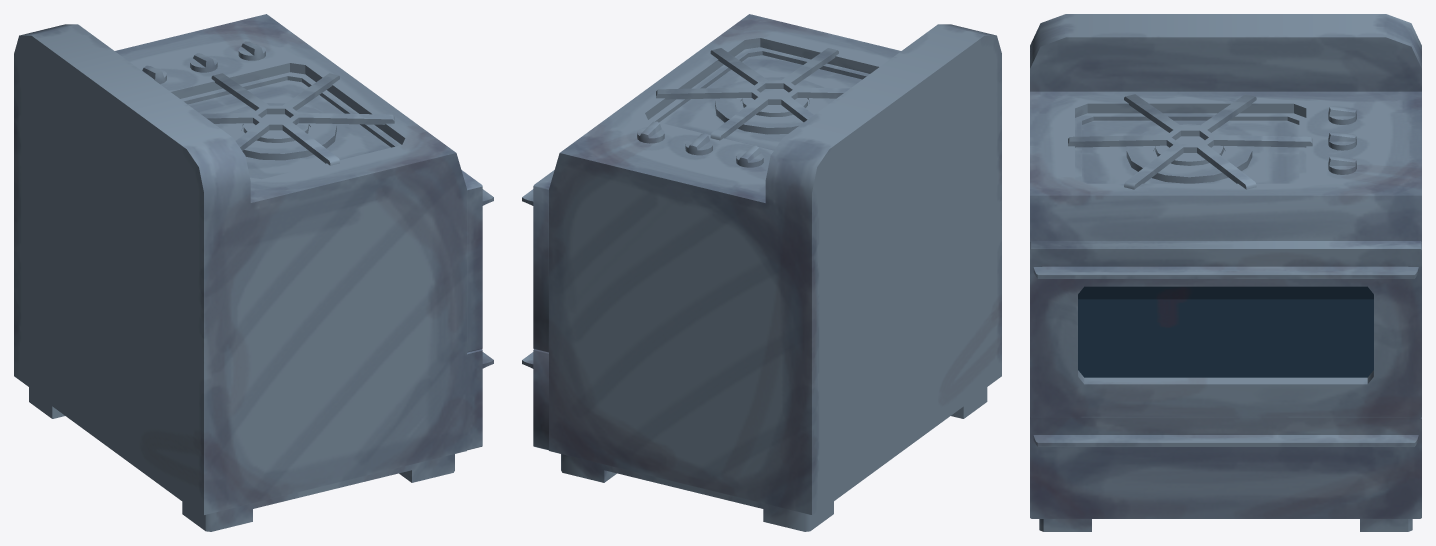
File: oven.glb
3 renders of one model, left to right at view 1: azimuth 30°, elevation 25°; view 2: azimuth 150°, elevation 25°; view 3: azimuth 270°, elevation 25°, orthographic. The views are drawn at different scales.
Parts seen in each view (by area): view 1: Oven; view 2: Oven; view 3: Oven.
Boxes of the visible parts, x1=… form: Oven: x1=14, y1=14, x2=493, y2=531; Oven: x1=522, y1=14, x2=1001, y2=531; Oven: x1=1030, y1=14, x2=1421, y2=531.
Bounding box in the file's own units: 2.04 × 2.5 × 2.29.
1 material, 1 textured.
